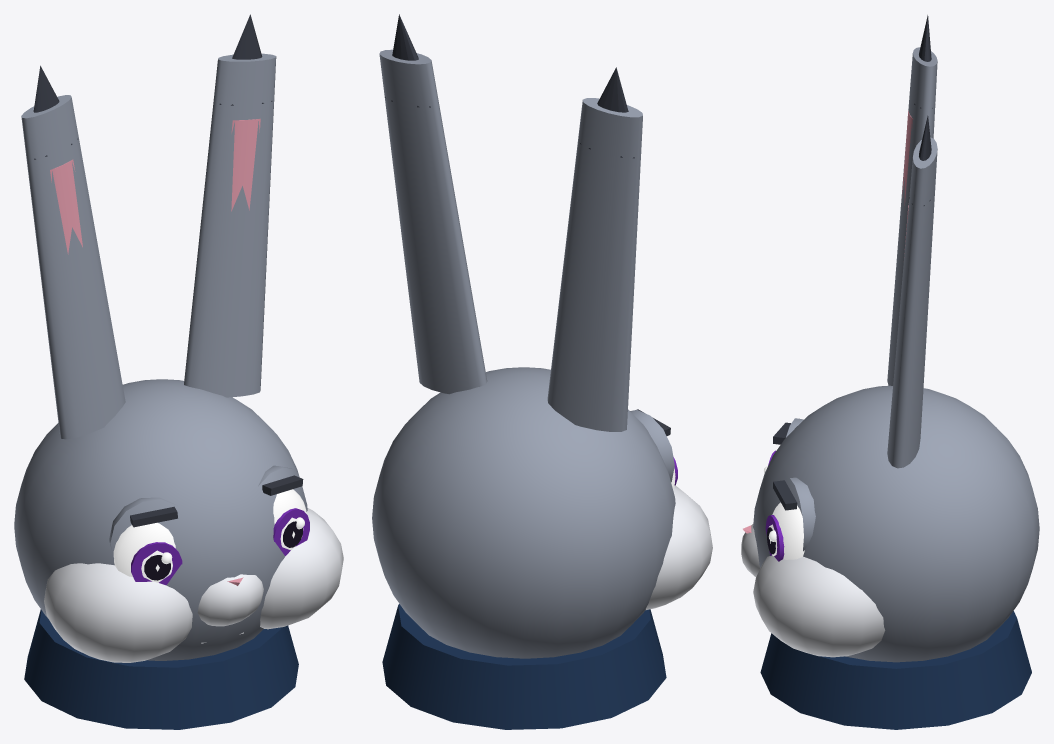
File: judy_candidate.glb
The picture shows the model from 3 angles, left to right: view 1: azimuth 30°, elevation 25°; view 2: azimuth 150°, elevation 25°; view 3: azimuth 270°, elevation 25°; orthographic projection. The views are drawn at different scales.
Parts seen in each view (by area): view 1: Judy_Skull, Judy_RightEarOuter, Judy_ZPDCollar, Judy_LeftEarOuter, Judy_LeftCheek, Judy_RightCheek, Judy_Muzzle, Judy_RightEarInner, Judy_LeftEyeWhite, Judy_LeftEarInner, Judy_LeftIris, Judy_RightEyeWhite (+4 smaller); view 2: Judy_Skull, Judy_LeftEarOuter, Judy_ZPDCollar, Judy_RightEarOuter, Judy_LeftCheek, Judy_LeftEyelid, Judy_LeftEarTip, Judy_RightEarTip; view 3: Judy_Skull, Judy_ZPDCollar, Judy_RightCheek, Judy_RightEarOuter, Judy_LeftEarOuter, Judy_RightEyeWhite, Judy_RightEyelid, Judy_Muzzle.
Boxes of the visible parts, x1,y1,x2,y2 form: Judy_Skull: (14,379,307,660); Judy_RightEarOuter: (184,53,276,397); Judy_ZPDCollar: (24,609,298,729); Judy_LeftEarOuter: (21,95,125,439); Judy_LeftCheek: (44,563,192,662); Judy_RightCheek: (260,508,343,629); Judy_Muzzle: (197,574,263,626); Judy_RightEarInner: (231,118,260,211); Judy_LeftEyeWhite: (113,522,175,582); Judy_LeftEarInner: (50,159,82,254); Judy_LeftIris: (131,542,182,585); Judy_RightEyeWhite: (273,489,306,550); Judy_Skull: (372,367,675,658); Judy_LeftEarOuter: (547,98,642,431); Judy_ZPDCollar: (382,604,666,729); Judy_RightEarOuter: (379,49,487,394); Judy_LeftCheek: (646,485,712,609); Judy_LeftEyelid: (630,410,674,482); Judy_LeftEarTip: (580,67,634,158); Judy_RightEarTip: (385,14,430,107); Judy_Skull: (753,385,1039,662); Judy_ZPDCollar: (760,611,1031,729); Judy_RightCheek: (753,555,885,657); Judy_RightEarOuter: (887,137,937,468); Judy_LeftEarOuter: (887,47,937,385); Judy_RightEyeWhite: (769,502,804,559); Judy_RightEyelid: (790,477,815,551); Judy_Muzzle: (741,524,760,576).
Bounding box in the file's own units: 2.1 × 4.45 × 1.98.
